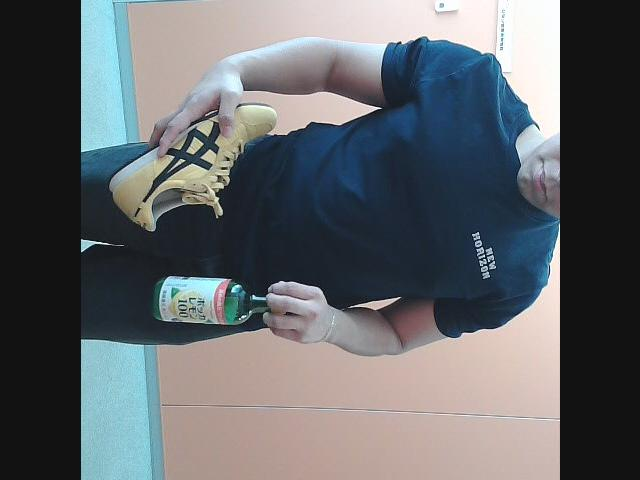Lemon_sapporo: (148, 276, 292, 326)
Shoes: (103, 99, 279, 227)
